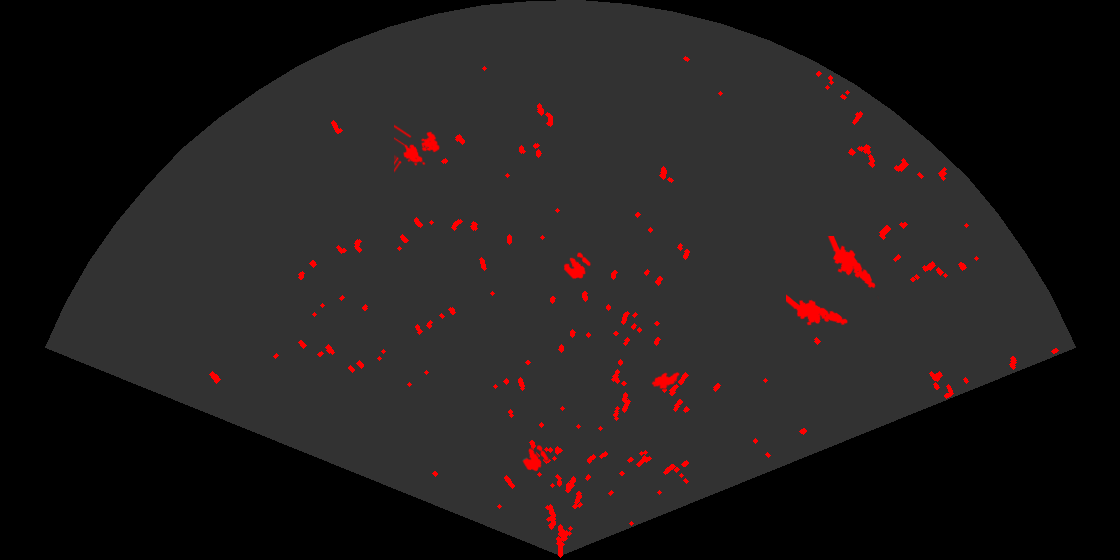AUV: (650, 370, 681, 391)
ball: (562, 251, 592, 281), (521, 443, 550, 473)
cage: (394, 123, 441, 174)
frogman: (826, 236, 879, 300), (786, 293, 849, 327)
